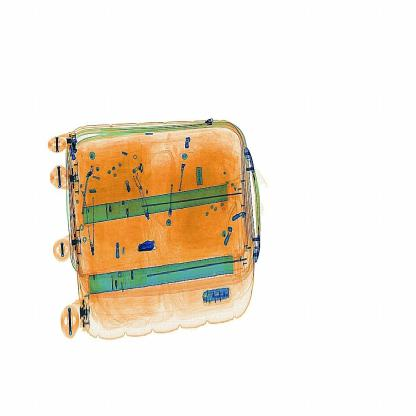knife: (134, 236, 160, 257)
